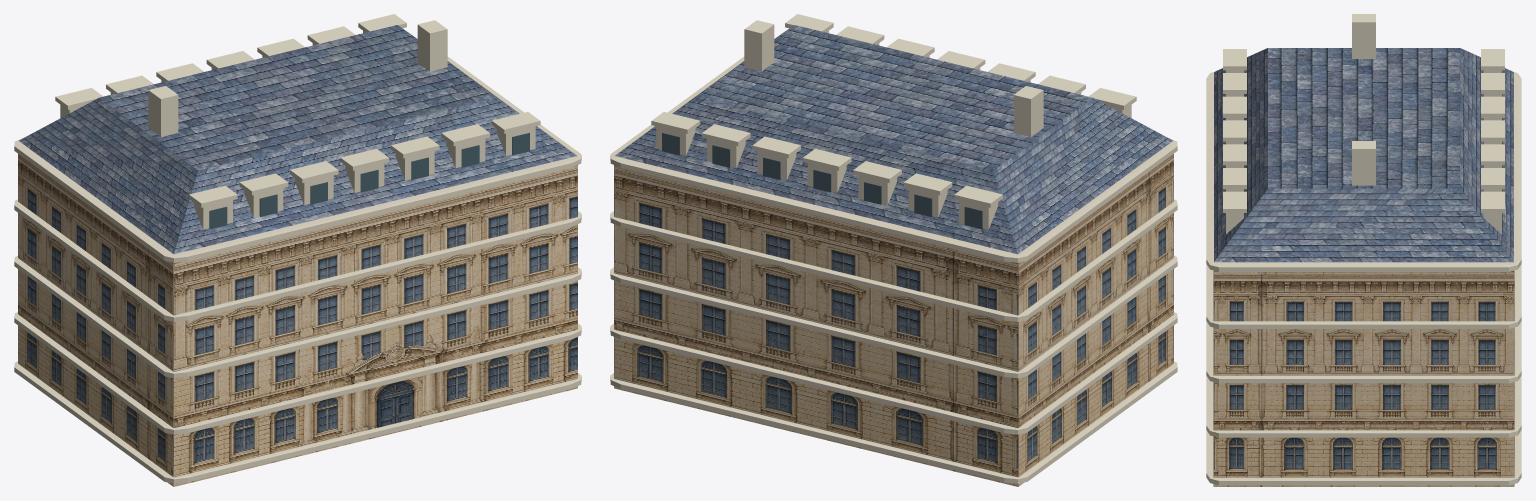
File: heritage-lod0.glb
The picture shows the model from 3 angles, left to right: view 1: azimuth 30°, elevation 25°; view 2: azimuth 150°, elevation 25°; view 3: azimuth 270°, elevation 25°; orthographic projection. The views are drawn at different scales.
Parts seen in each view (by area): view 1: heritage_architecture; view 2: heritage_architecture; view 3: heritage_architecture.
Part boxes in pixels (x1,y1,x2,y2): heritage_architecture: (14, 14, 581, 486); heritage_architecture: (610, 14, 1177, 486); heritage_architecture: (1206, 14, 1521, 486).
Bounding box in the file's own units: 15.5 × 11.4 × 10.5.
5 materials, 3 textured.
